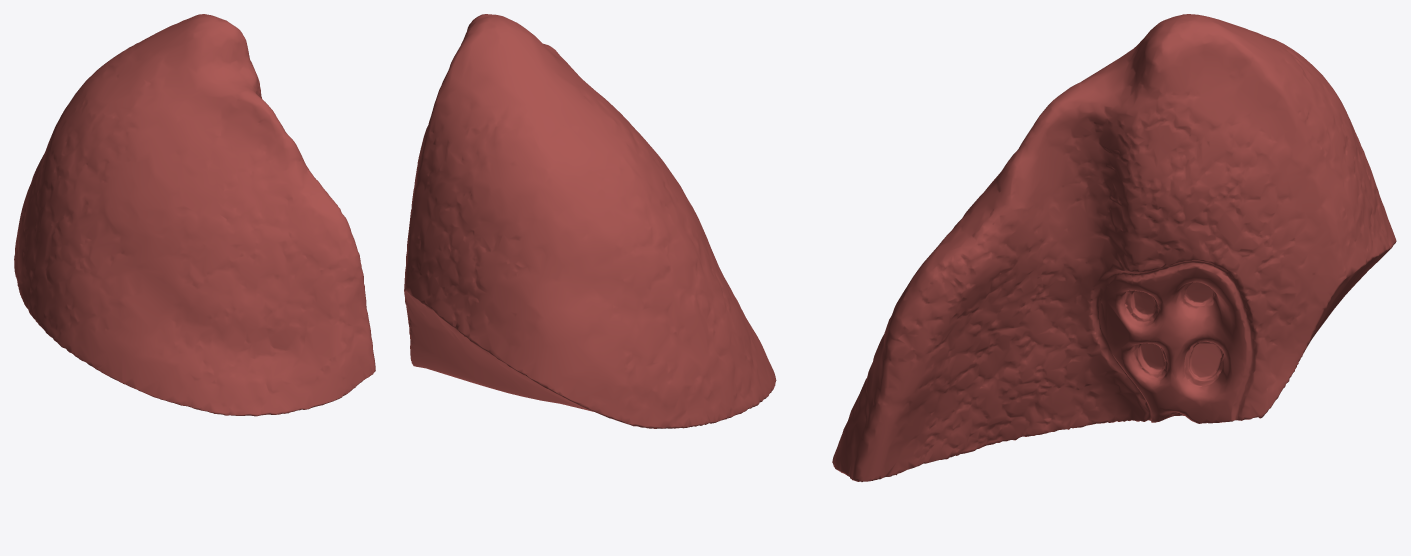
The model's file is FMA7333.glb.
3 views of the same model, side by side, from view 1: azimuth 30°, elevation 25°; view 2: azimuth 150°, elevation 25°; view 3: azimuth 270°, elevation 25° (orthographic). The views are drawn at different scales.
Parts seen in each view (by area): view 1: FMA7333; view 2: FMA7333; view 3: FMA7333.
Part boxes in pixels (<box>): FMA7333: <box>14,14,375,416</box>; FMA7333: <box>404,14,776,428</box>; FMA7333: <box>832,14,1396,481</box>.
Size of the model in its own units: 0.1089 by 0.1891 by 0.1538.
